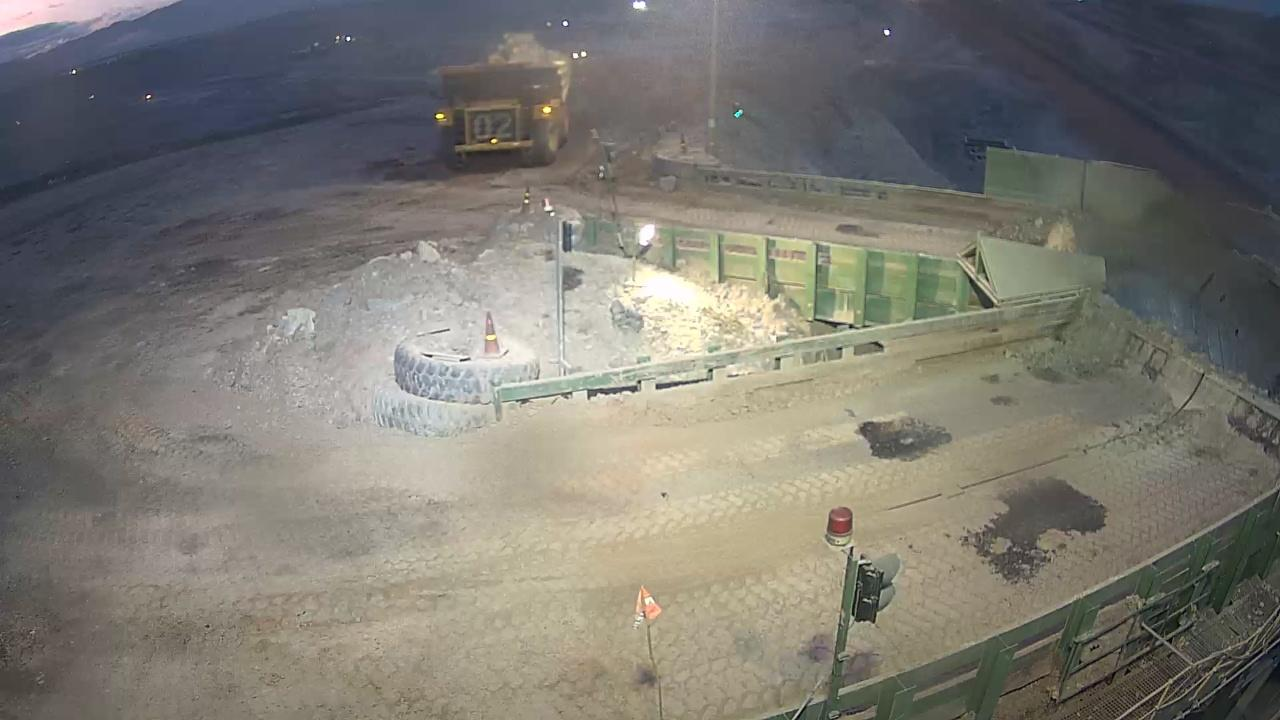front_number: (471, 107, 516, 142)
mining_truck: (431, 50, 572, 169)
